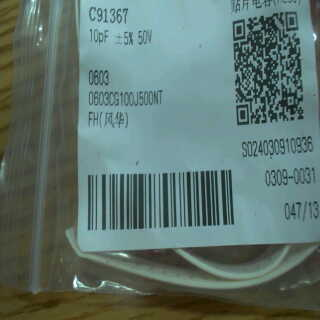10pF: (87, 24, 110, 45)
